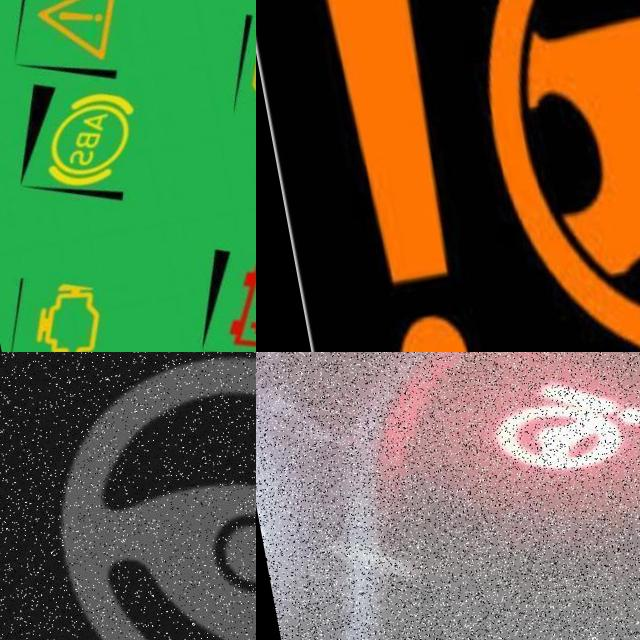Electronic Power Steering: (303, 0, 640, 352), (0, 352, 256, 640), (441, 352, 640, 524)
